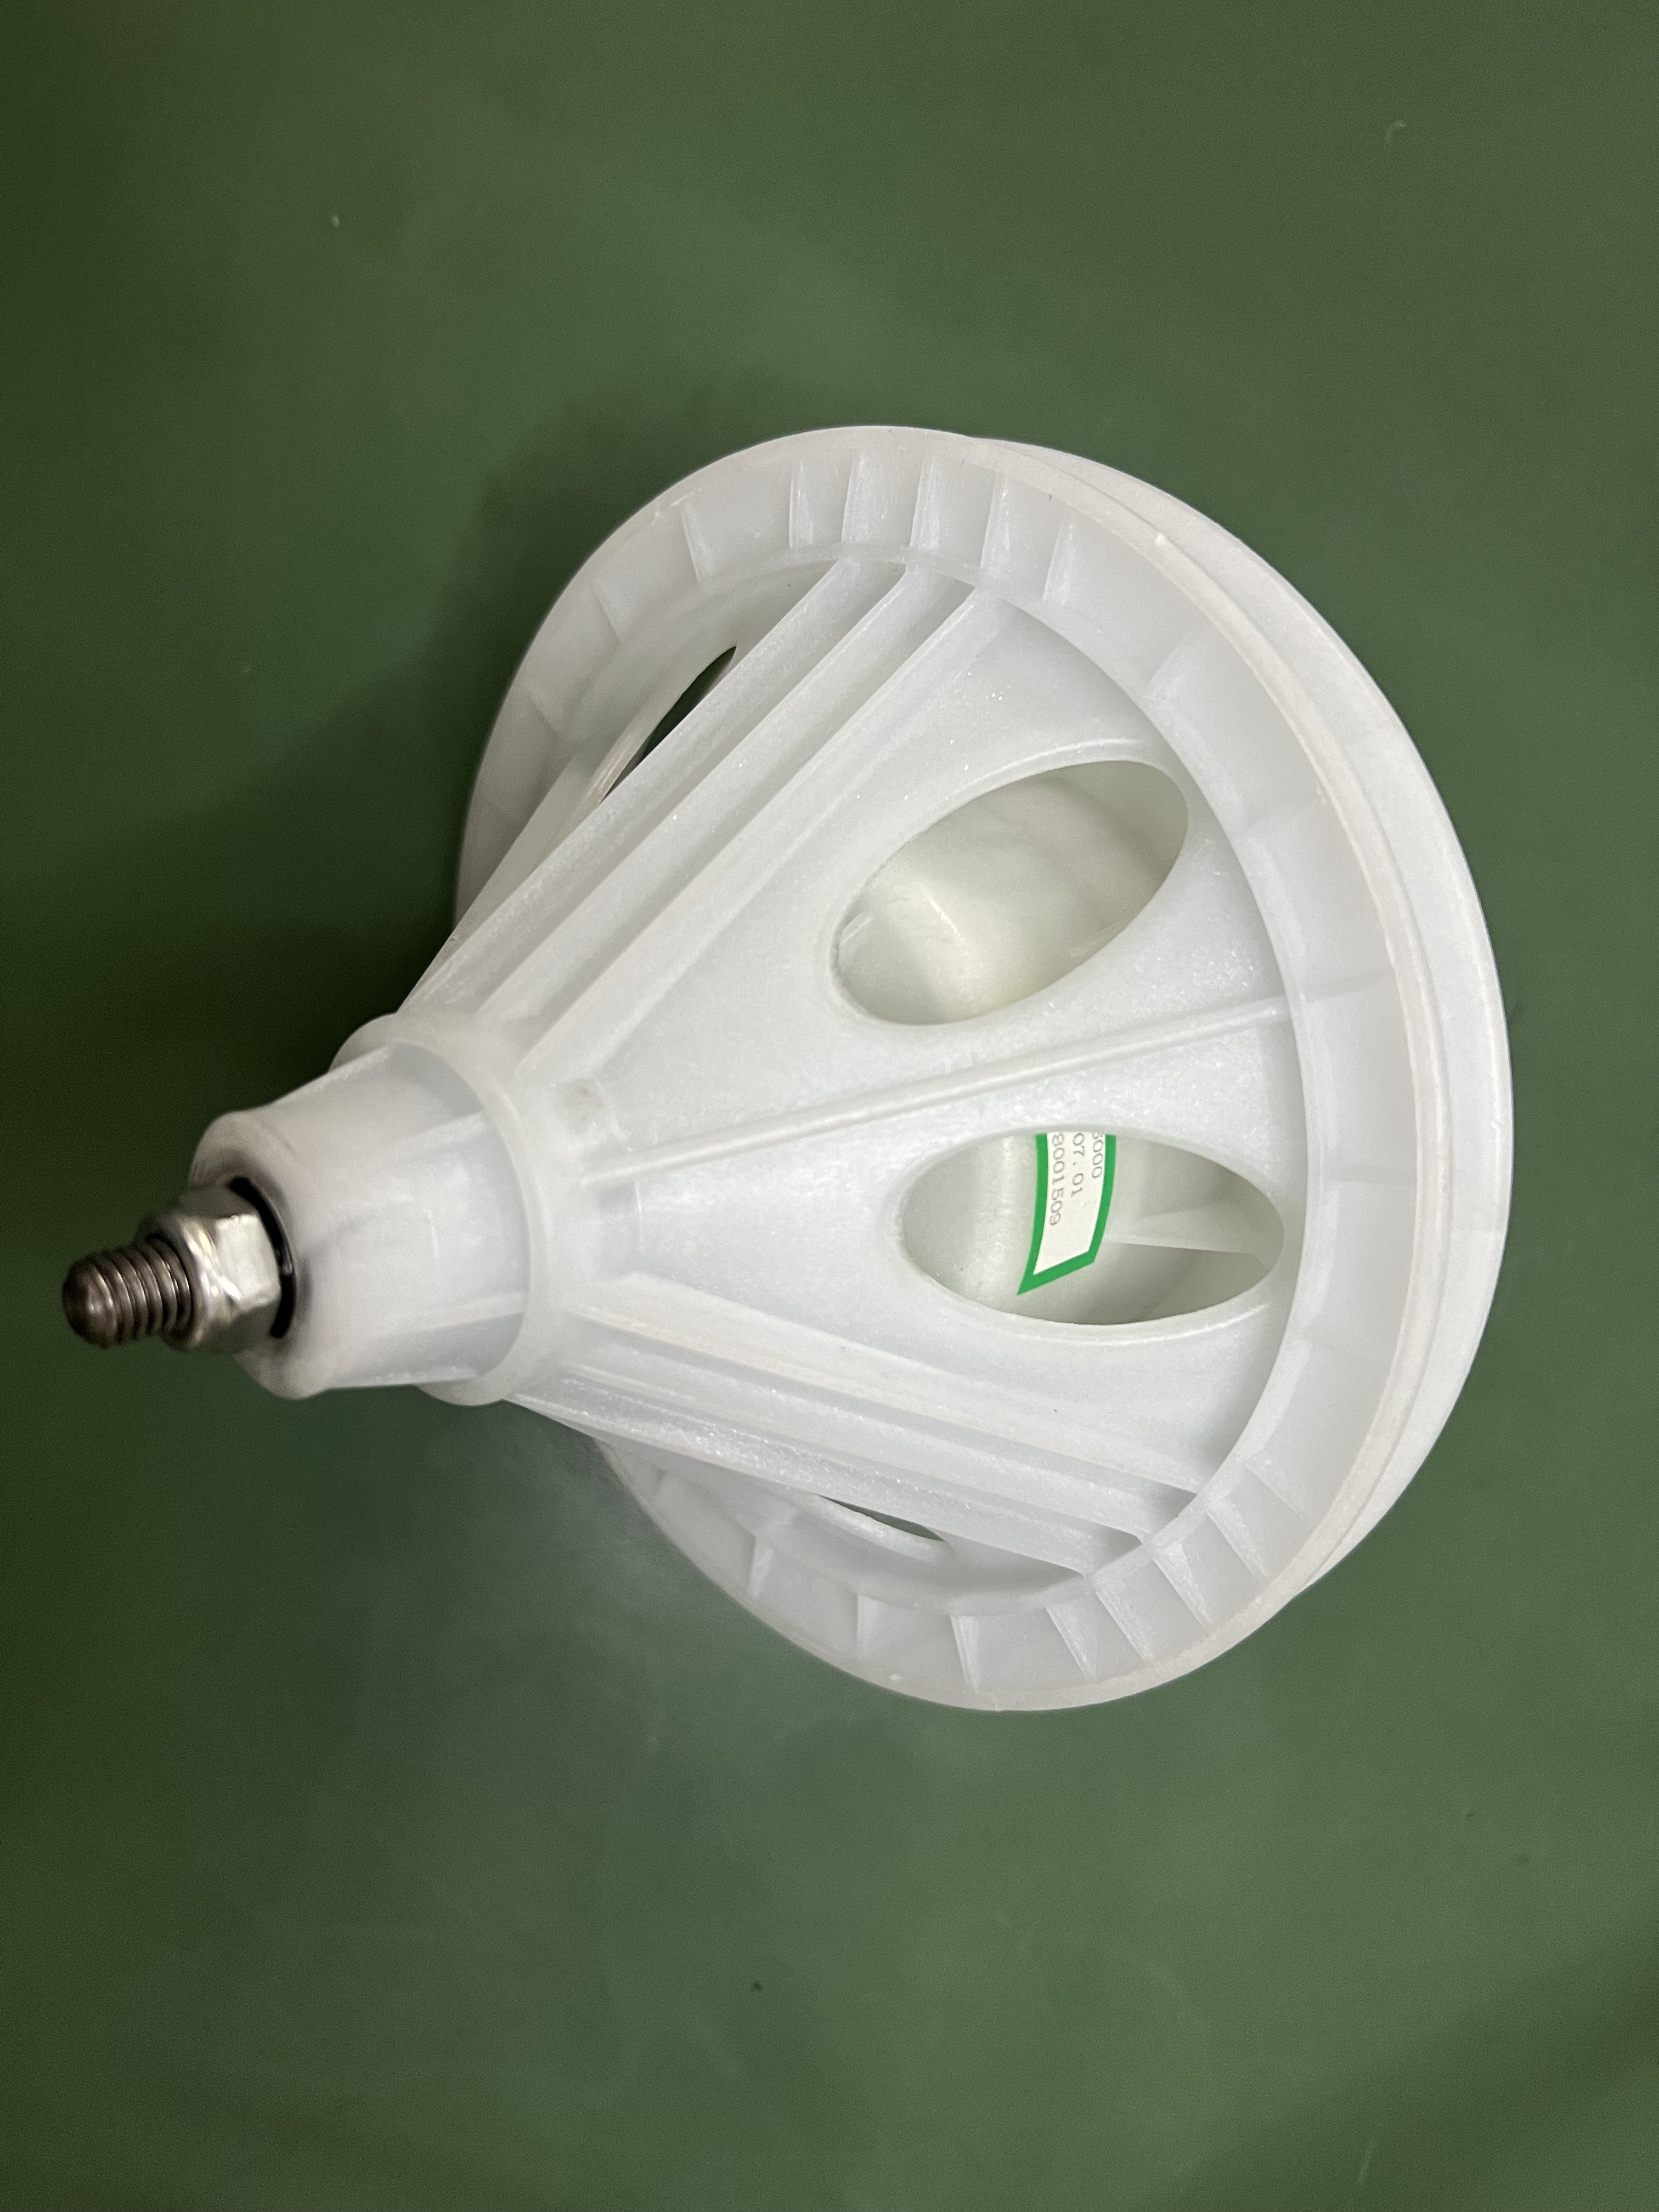gear_box_ovul: (141, 404, 1547, 1714)
